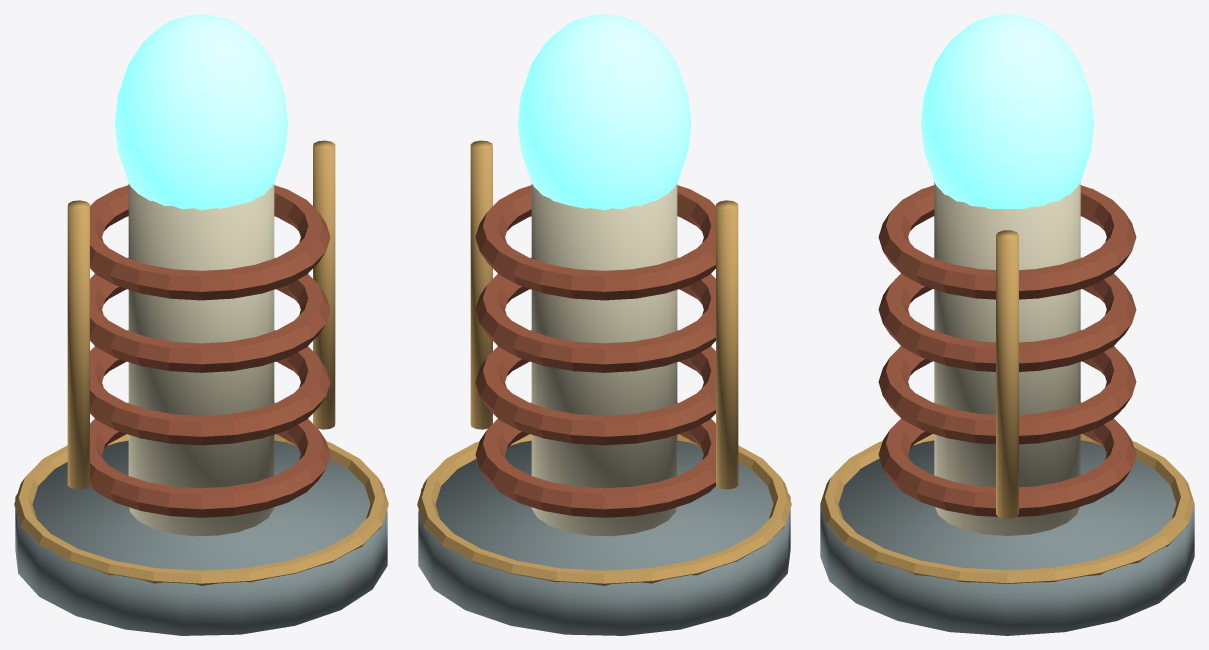
The model's file is module-arc.glb.
3 renders of one model, left to right at view 1: azimuth 30°, elevation 25°; view 2: azimuth 150°, elevation 25°; view 3: azimuth 270°, elevation 25°, orthographic.
Visible parts, largest first — view 1: module-arc / Copper | patinated oxblood, module-arc / Iron | weathered steel, module-arc / Ceramic | warm ivory, module-arc / Glass | luminous mint, module-arc / Brass | machined champagne; view 2: module-arc / Copper | patinated oxblood, module-arc / Iron | weathered steel, module-arc / Ceramic | warm ivory, module-arc / Glass | luminous mint, module-arc / Brass | machined champagne; view 3: module-arc / Iron | weathered steel, module-arc / Copper | patinated oxblood, module-arc / Glass | luminous mint, module-arc / Ceramic | warm ivory, module-arc / Brass | machined champagne.
Boxes of the visible parts, box(x1,y1,x2,y2) form: module-arc / Copper | patinated oxblood: box(89, 185, 330, 517); module-arc / Iron | weathered steel: box(15, 441, 387, 635); module-arc / Ceramic | warm ivory: box(128, 183, 274, 536); module-arc / Glass | luminous mint: box(114, 14, 288, 210); module-arc / Brass | machined champagne: box(14, 140, 388, 585); module-arc / Copper | patinated oxblood: box(475, 185, 716, 517); module-arc / Iron | weathered steel: box(418, 441, 790, 635); module-arc / Ceramic | warm ivory: box(531, 183, 677, 536); module-arc / Glass | luminous mint: box(517, 14, 691, 210); module-arc / Brass | machined champagne: box(417, 140, 791, 585); module-arc / Iron | weathered steel: box(820, 441, 1194, 635); module-arc / Copper | patinated oxblood: box(878, 185, 1136, 516); module-arc / Glass | luminous mint: box(920, 14, 1094, 209); module-arc / Ceramic | warm ivory: box(934, 182, 1080, 535); module-arc / Brass | machined champagne: box(820, 230, 1194, 583).
Bounding box in the file's own units: 1.64 × 2.59 × 1.64.
